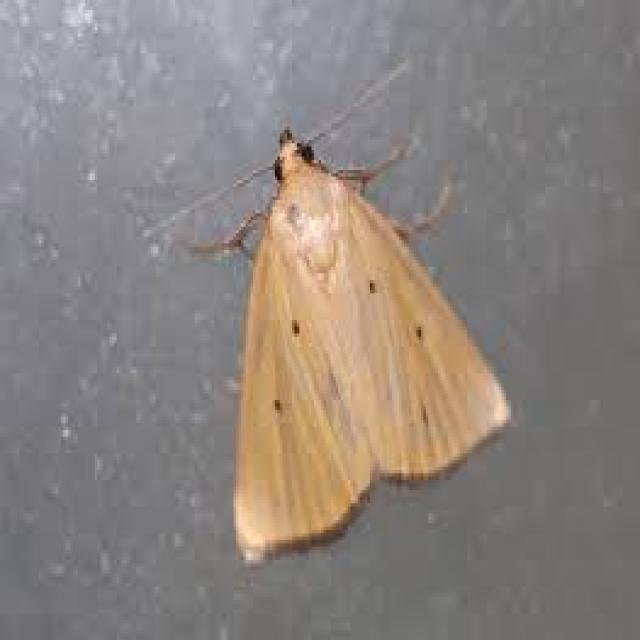yellow-stem-borer: (183, 92, 536, 578)
